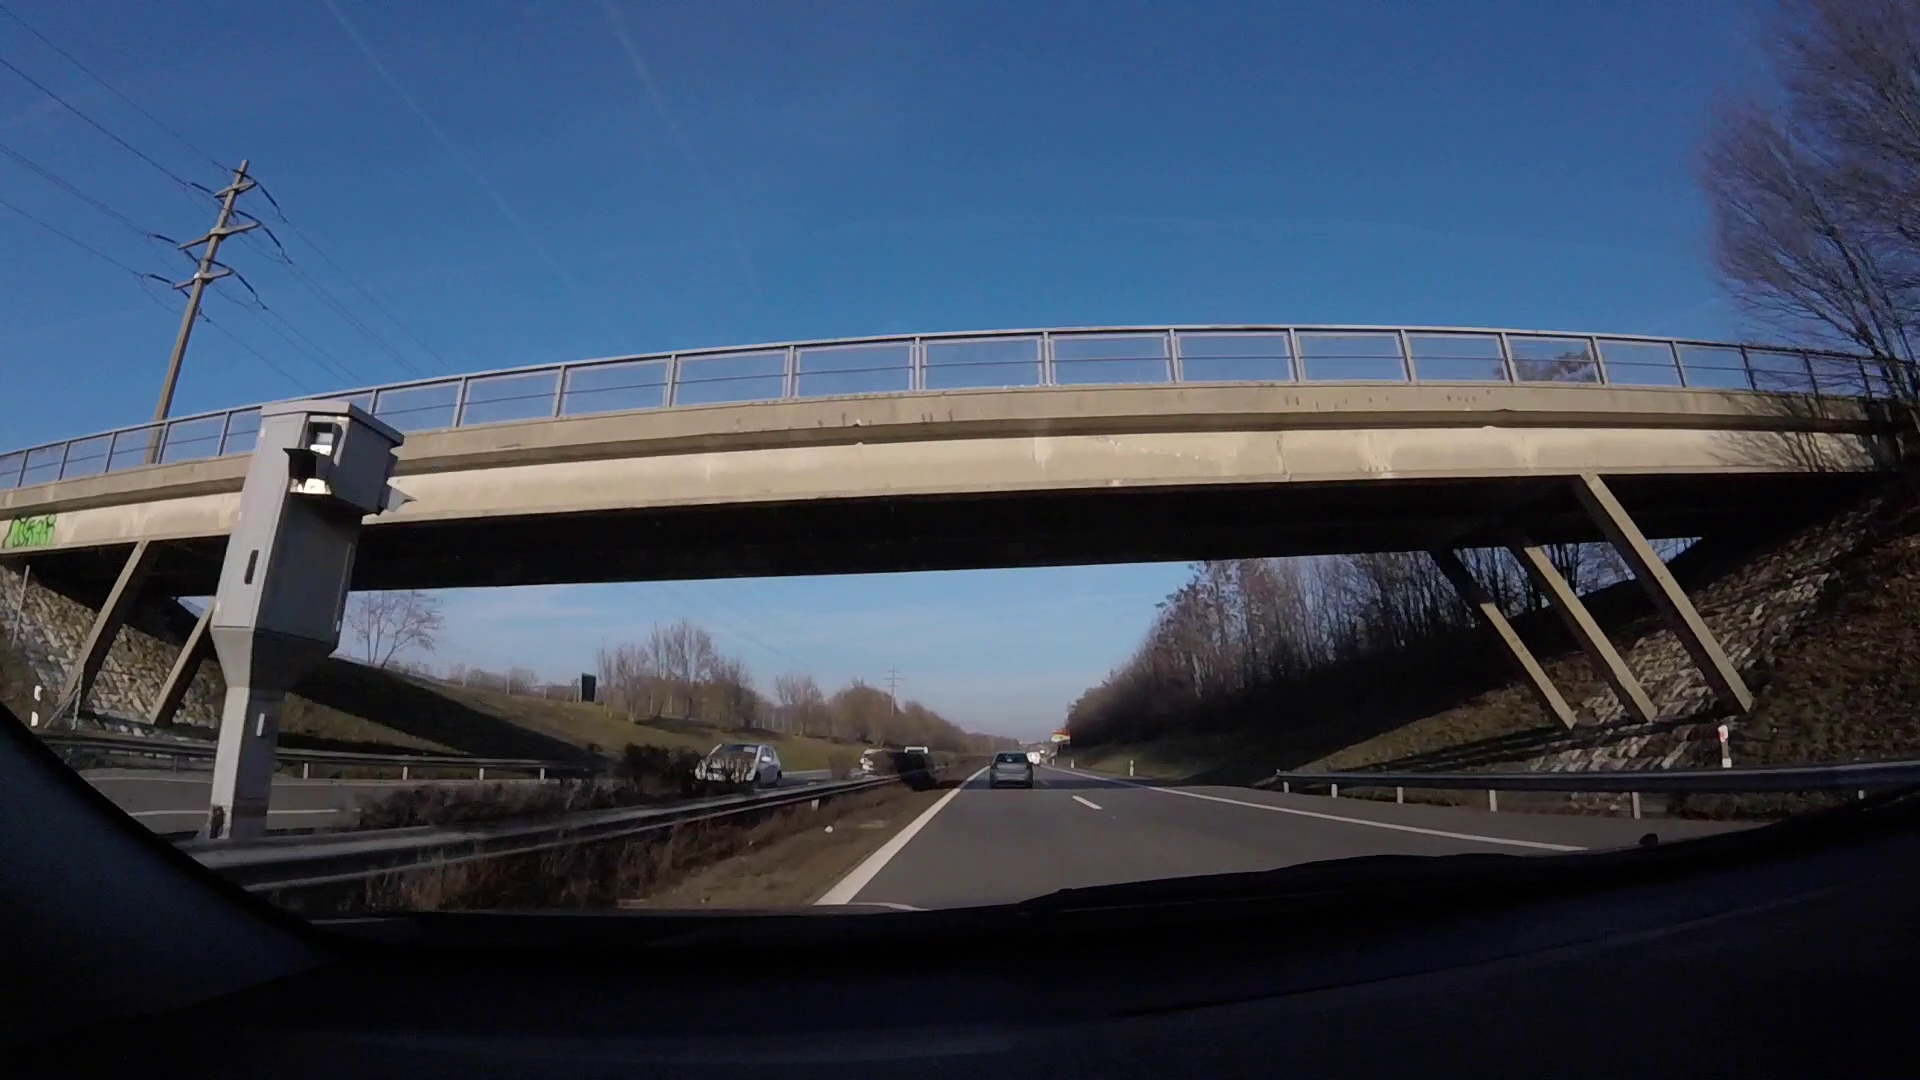radar: (208, 400, 401, 841)
